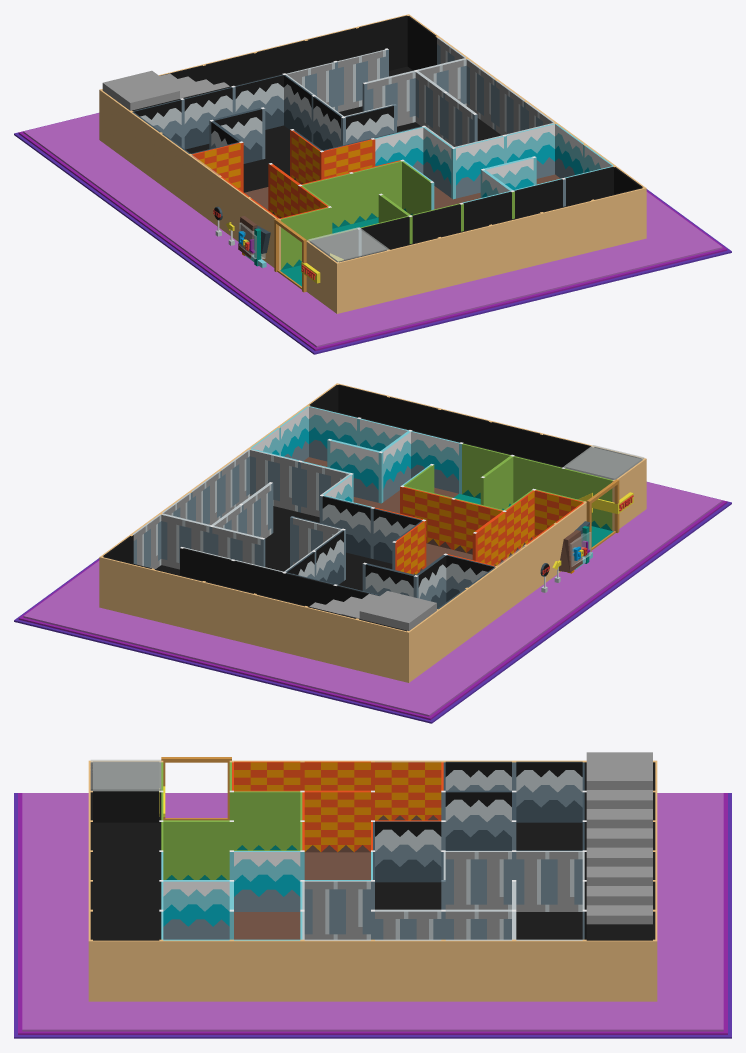
Rendered from puzzle.glb.
The picture shows the model from 3 angles, top to bottom: view 1: azimuth 30°, elevation 25°; view 2: azimuth 150°, elevation 25°; view 3: azimuth 270°, elevation 25°; orthographic projection. The views are drawn at different scales.
Parts seen in each view (by area): view 1: group39348529, group1481533100, group1716871195, group73984439, group370134494, group465033766, group1966545049, group1713284843, group1351662894, group156870730, group729632938, group1765605280 (+50 smaller); view 2: group39348529, group505890420, group1716871195, group73984439, group13398693, group1049376108, group945479491, group554032489, group1080749163, group1825839585, group1765605280, group1539924453 (+51 smaller); view 3: group370134494, group505890420, group1481533100, group1765605280, group1311281095, group73984439, group1716871195, group1910367098, group1472819727, group637122948, group8922245, group1854280487 (+29 smaller).
Part boxes in pixels (<box>): group39348529: <box>23,119,336,326</box>; group1481533100: <box>289,238,674,347</box>; group1716871195: <box>14,113,731,354</box>; group73984439: <box>18,113,727,351</box>; group370134494: <box>646,192,722,260</box>; group465033766: <box>339,250,388,313</box>; group1966545049: <box>595,188,643,250</box>; group1713284843: <box>544,201,592,263</box>; group1351662894: <box>493,213,541,275</box>; group156870730: <box>391,238,439,300</box>; group729632938: <box>442,225,490,288</box>; group1765605280: <box>104,70,229,110</box>; group39348529: <box>381,509,694,716</box>; group505890420: <box>23,596,408,704</box>; group1716871195: <box>14,482,731,723</box>; group73984439: <box>18,482,727,720</box>; group13398693: <box>357,619,406,682</box>; group1049376108: <box>153,570,201,632</box>; group945479491: <box>102,557,150,619</box>; group554032489: <box>204,582,252,644</box>; group1080749163: <box>255,594,303,657</box>; group1825839585: <box>306,607,354,669</box>; group1765605280: <box>309,591,434,630</box>; group1539924453: <box>411,431,459,493</box>; group370134494: <box>22,1001,657,1031</box>; group505890420: <box>657,821,723,1031</box>; group1481533100: <box>22,793,88,1001</box>; group1765605280: <box>586,753,652,924</box>; group1311281095: <box>93,822,159,939</box>; group73984439: <box>18,793,727,1034</box>; group1716871195: <box>14,793,731,1038</box>; group1910367098: <box>516,940,582,1001</box>; group1472819727: <box>163,940,229,1001</box>; group637122948: <box>516,761,582,822</box>; group8922245: <box>234,940,300,1001</box>; group1854280487: <box>304,940,370,1001</box>.
Bounding box in the file's own units: 2.78 × 0.4 × 3.46.
